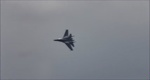maybay_muctieu: (54, 28, 76, 51)
